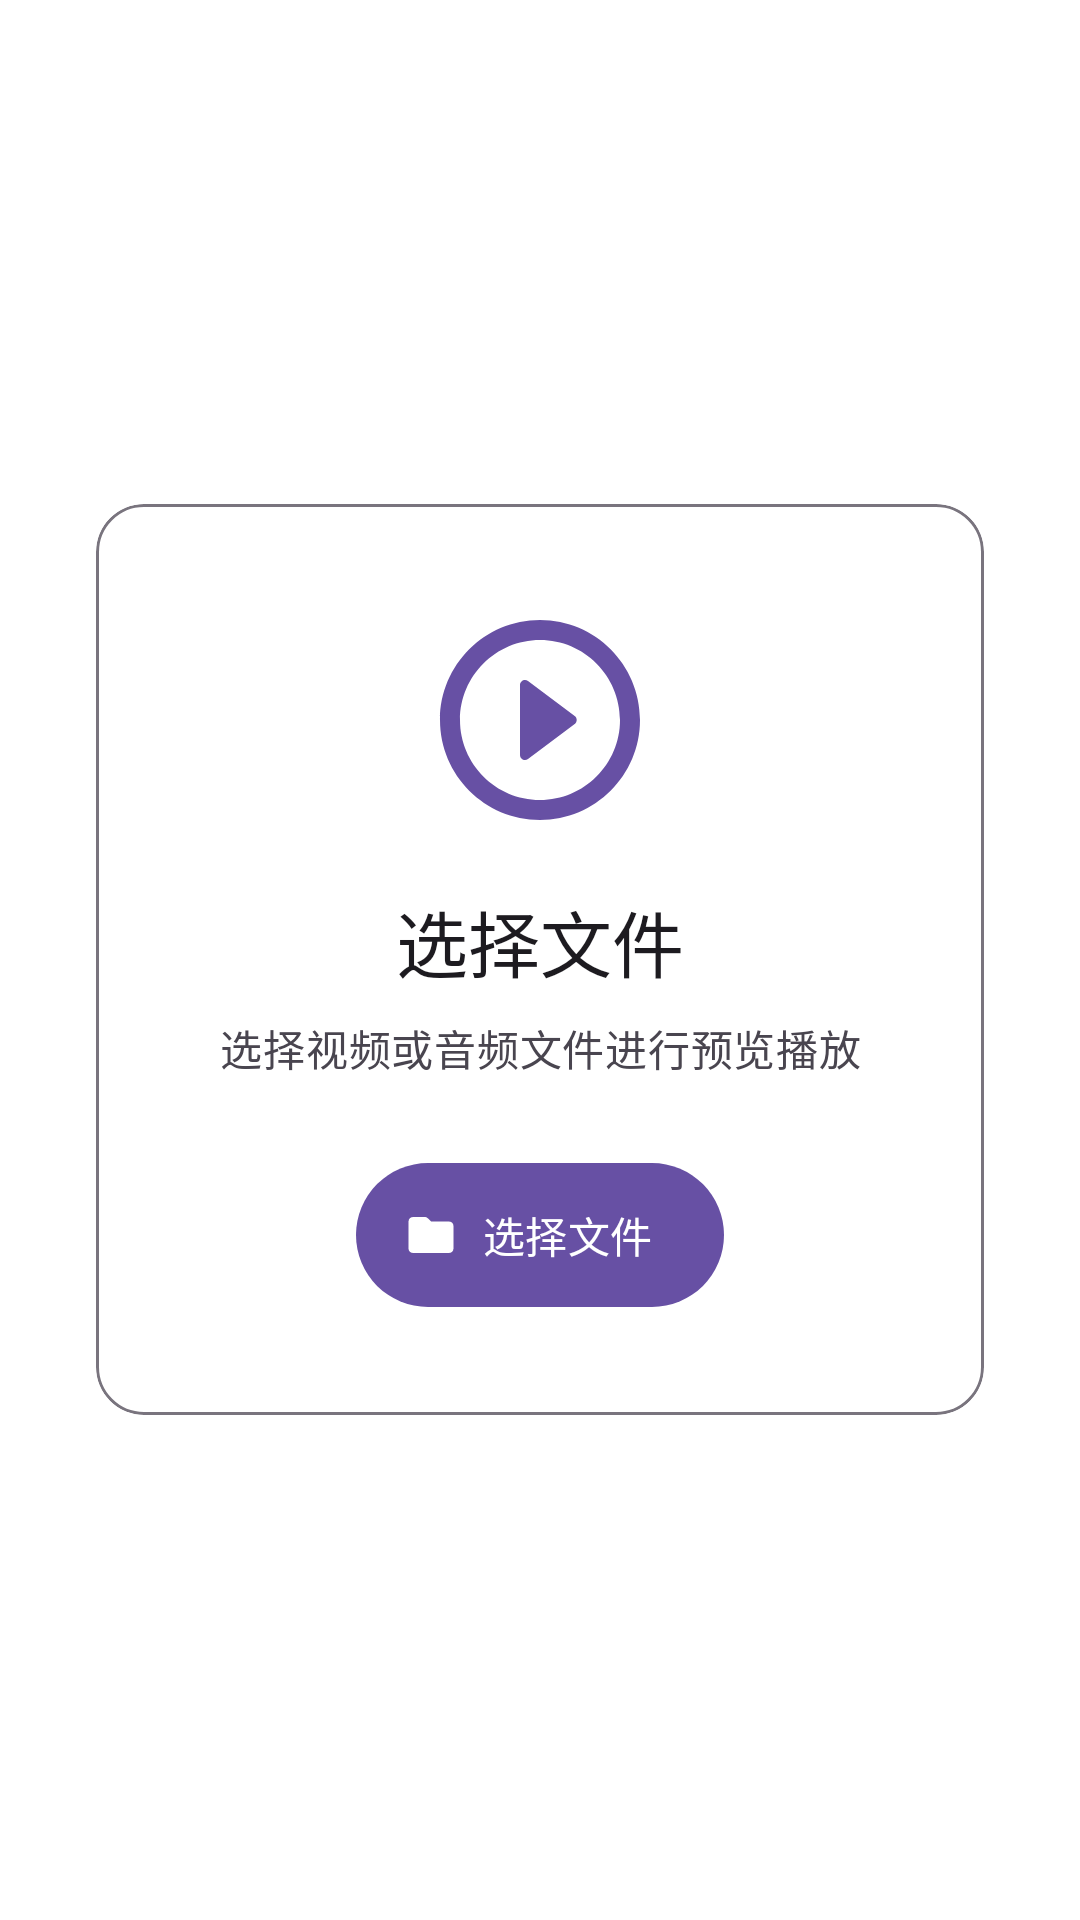

Icons on this 1080px×1920px Android screen, each with its box as region(x1, y1, x2, y2):
play circle: region(440, 620, 640, 820)
